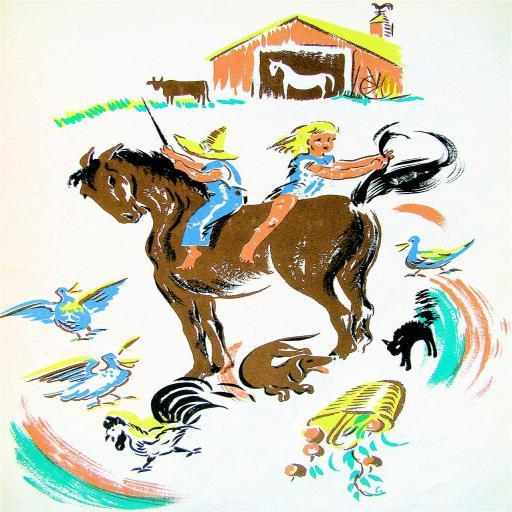horse: (68, 121, 468, 385), (266, 56, 336, 100)
